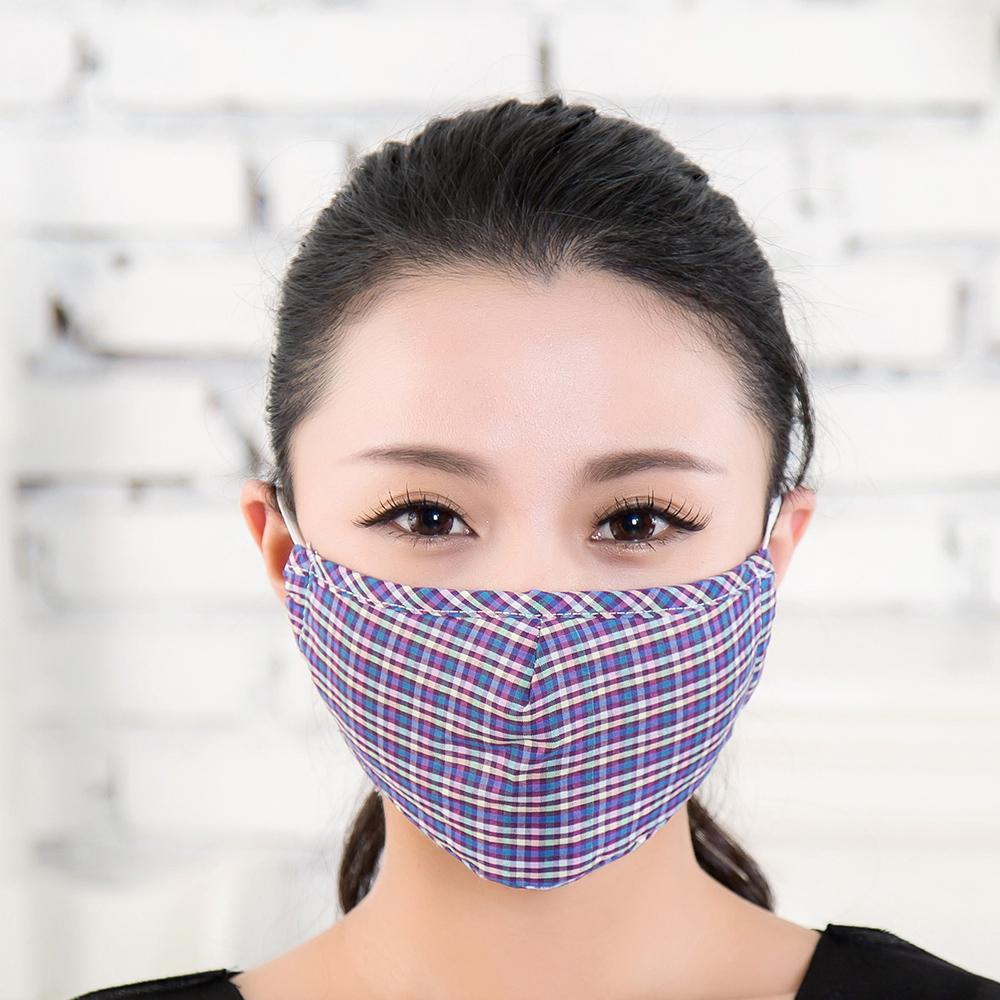OK: (332, 430, 779, 877)
